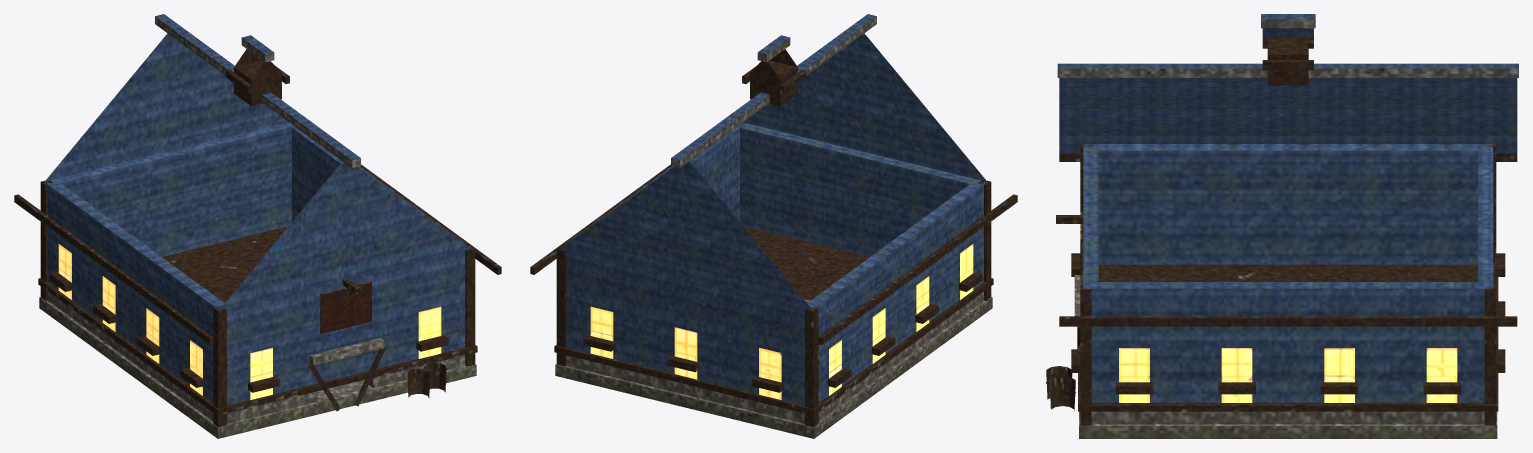
File: bld_barn_card_lod2.glb
3 renders of one model, left to right at view 1: azimuth 30°, elevation 25°; view 2: azimuth 150°, elevation 25°; view 3: azimuth 270°, elevation 25°, orthographic. The views are drawn at different scales.
Parts seen in each view (by area): view 1: barn_card; view 2: barn_card; view 3: barn_card.
Part boxes in pixels (left/top/right/bottom): barn_card: left=14, top=14, right=501, bottom=438; barn_card: left=530, top=14, right=1017, bottom=438; barn_card: left=1046, top=14, right=1518, bottom=438.
Bounding box in the file's own units: 19.65 × 19.19 × 23.53.
Materials: 1 (1 with a texture image).
